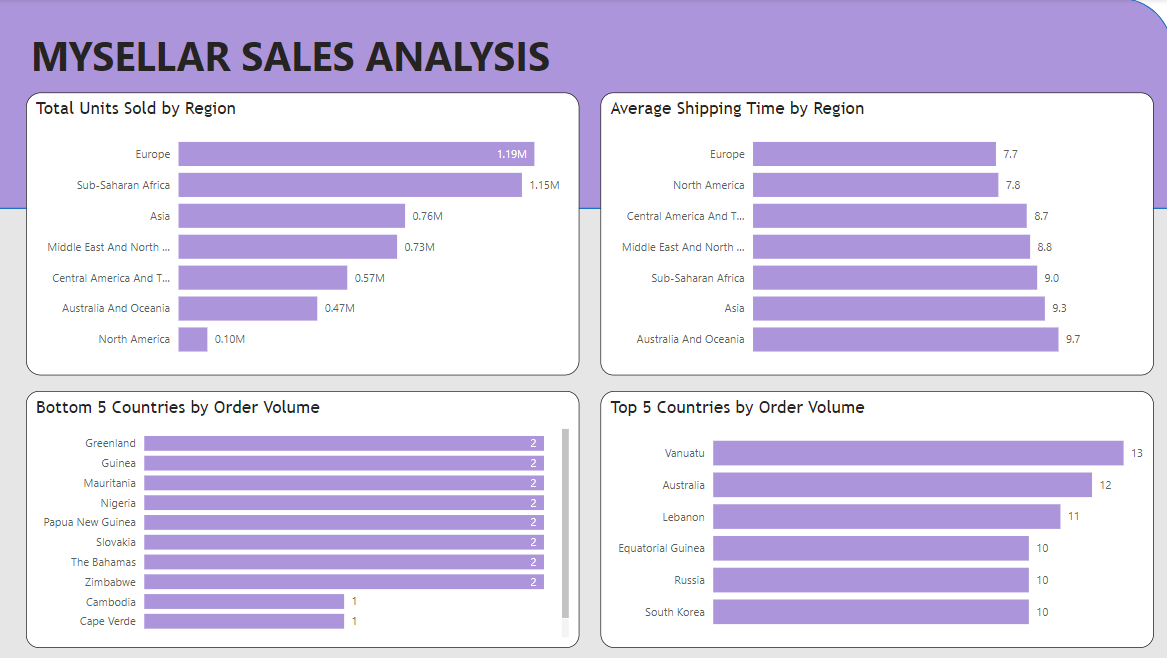

The dashboard page shown, as its layout file describes it:
{"tool":"powerbi","page":{"name":"Order Volume/Shipping Time/Total Units Sold","canvas":[1280,720],"ordinal":1},"visuals":[{"type":"shape","box":[10,0,1270,227.5],"z":0},{"type":"shape","box":[10,227.5,1270,492.5],"z":1000},{"type":"textbox","box":[42.5,27.5,1195,167.5],"z":2000},{"type":"clusteredBarChart","fields":{"Category":["Mysellar Sales.Region"],"Y":["Mysellar Sales.Total Units Sold"]},"box":[42.5,102.5,597.5,305],"z":3000},{"type":"clusteredBarChart","title":"Bottom 5 Countries by Order Volume","fields":{"Y":["Mysellar Sales.OrderVolume"],"Category":["Mysellar Sales.Country"]},"box":[42.5,425,597.5,277.5],"z":4000},{"type":"clusteredBarChart","title":"Top 5 Countries by Order Volume","fields":{"Y":["Mysellar Sales.OrderVolume"],"Category":["Mysellar Sales.Country"]},"box":[662.5,425,597.5,277.5],"z":5000},{"type":"clusteredBarChart","title":"Average Shipping Time by Region","fields":{"Category":["Mysellar Sales.Region"],"Y":["Mysellar Sales.AvgShippingTime"]},"box":[662.5,102.5,597.5,305],"z":6000}]}

Visuals, with their boxes in screenshot pixels (x1, y1, x2, y2), scaled from the page's 1280x720 canvas onto the 1167x658 screenshot:
shape: x1=9 y1=0 x2=1166 y2=208
shape: x1=9 y1=208 x2=1166 y2=657
textbox: x1=39 y1=25 x2=1128 y2=178
clusteredBarChart - Mysellar Sales.Region x Mysellar Sales.Total Units Sold: x1=39 y1=94 x2=584 y2=372
"Bottom 5 Countries by Order Volume" clusteredBarChart: x1=39 y1=388 x2=584 y2=642
"Top 5 Countries by Order Volume" clusteredBarChart: x1=604 y1=388 x2=1149 y2=642
"Average Shipping Time by Region" clusteredBarChart: x1=604 y1=94 x2=1149 y2=372
